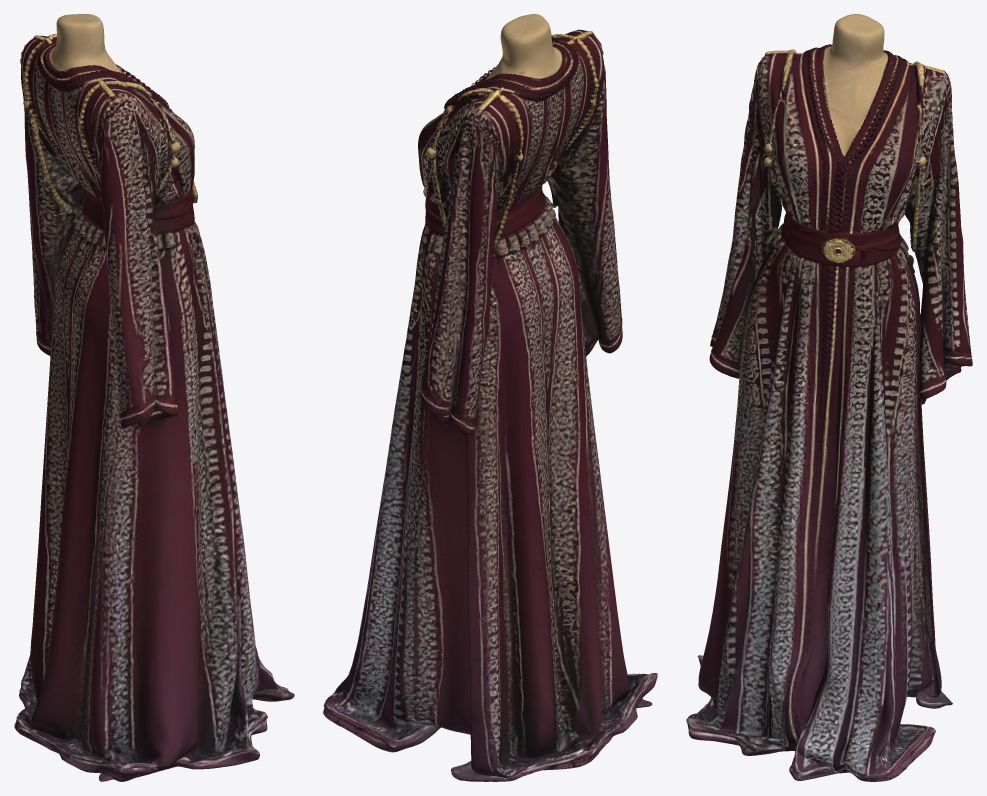
File: caftan.glb
The picture shows the model from 3 angles, left to right: view 1: azimuth 30°, elevation 25°; view 2: azimuth 150°, elevation 25°; view 3: azimuth 270°, elevation 25°; orthographic projection. The views are drawn at different scales.
Visible parts, largest first — view 1: tripo_node_a41db548-c94b-44f2-8dec-e73bbb300577; view 2: tripo_node_a41db548-c94b-44f2-8dec-e73bbb300577; view 3: tripo_node_a41db548-c94b-44f2-8dec-e73bbb300577.
Part boxes in pixels (x1,y1,x2,y2): tripo_node_a41db548-c94b-44f2-8dec-e73bbb300577: (14, 14, 294, 781); tripo_node_a41db548-c94b-44f2-8dec-e73bbb300577: (323, 14, 657, 781); tripo_node_a41db548-c94b-44f2-8dec-e73bbb300577: (686, 14, 972, 781).
Bounding box in the file's own units: 0.6452 × 1.75 × 0.6718.
Materials: 1 (1 with a texture image).
